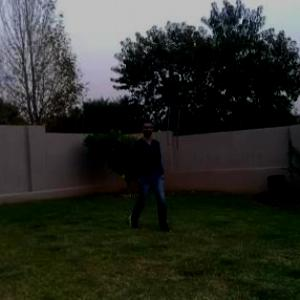follow: (132, 117, 164, 224)
